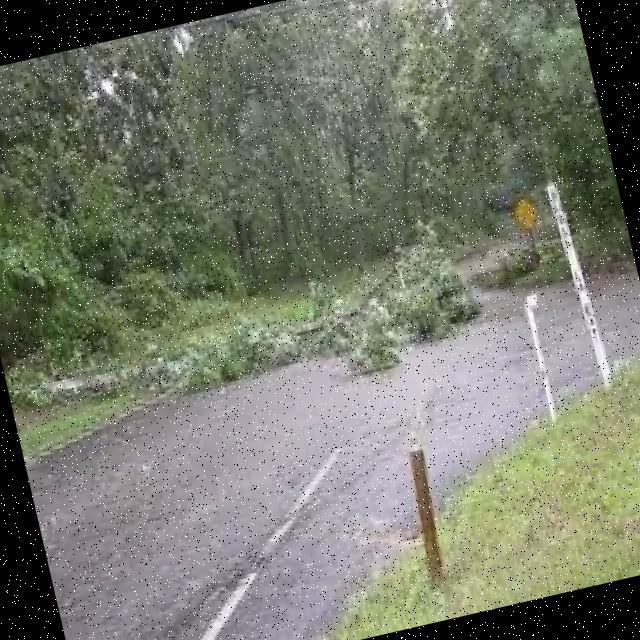fallen_object: (4, 217, 481, 450)
